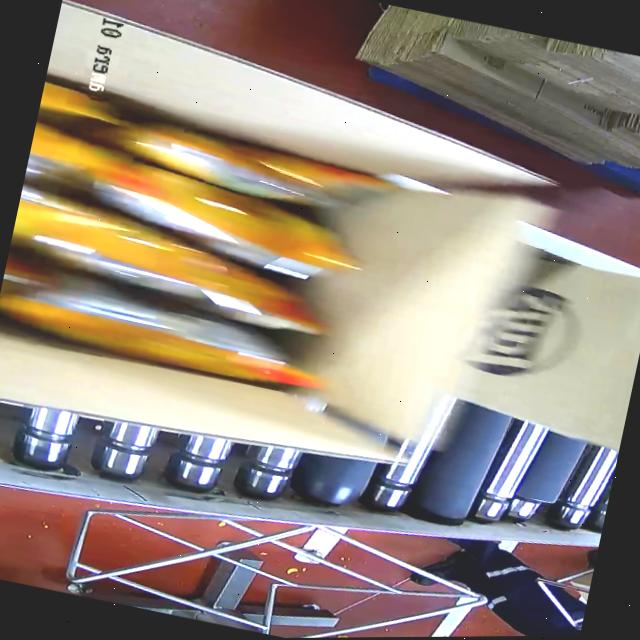FRENCH_CHEESE: (0, 82, 432, 441)
